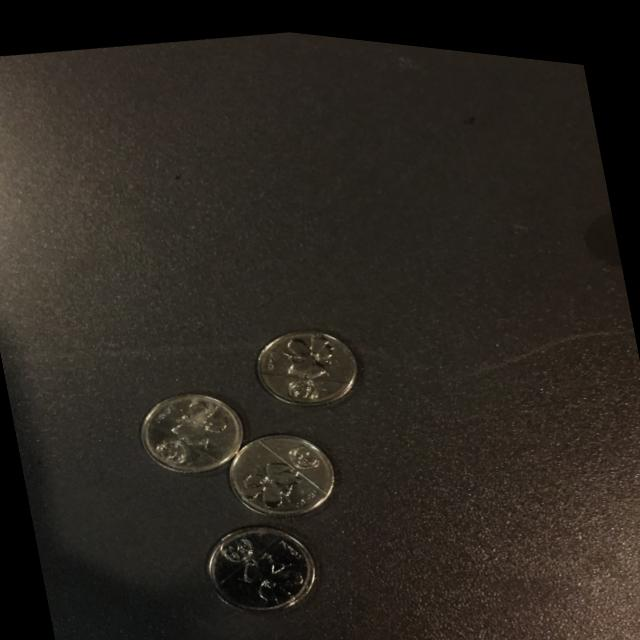25Cent_New_Back: (212, 515, 308, 616), (264, 323, 363, 410), (148, 390, 241, 471), (241, 426, 320, 507)
